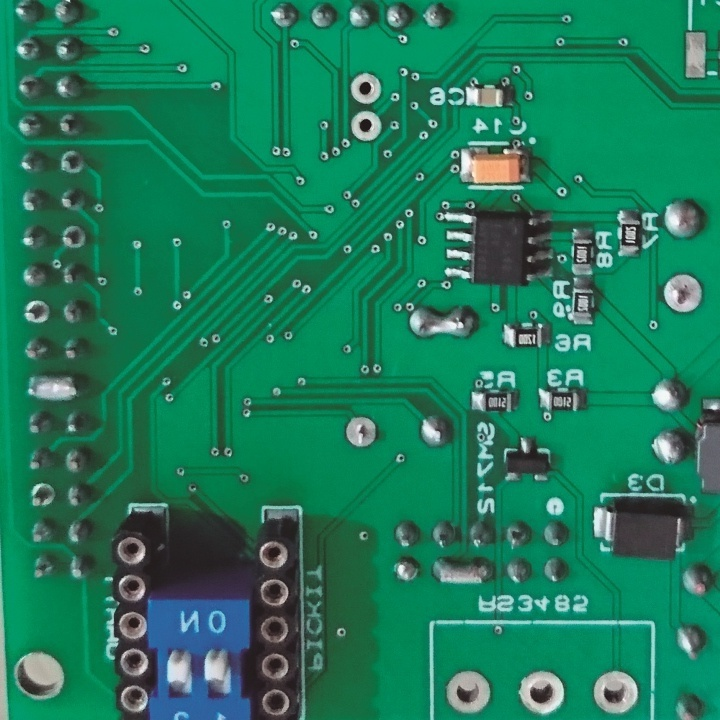F: (516, 670, 570, 718), (444, 665, 496, 713), (593, 669, 640, 717), (661, 272, 704, 316), (342, 413, 378, 449), (350, 111, 383, 145), (350, 74, 384, 104), (28, 482, 57, 512), (23, 300, 52, 328), (60, 149, 86, 176), (61, 226, 89, 251)
P: (409, 300, 481, 346), (430, 553, 497, 589), (21, 373, 90, 404)
